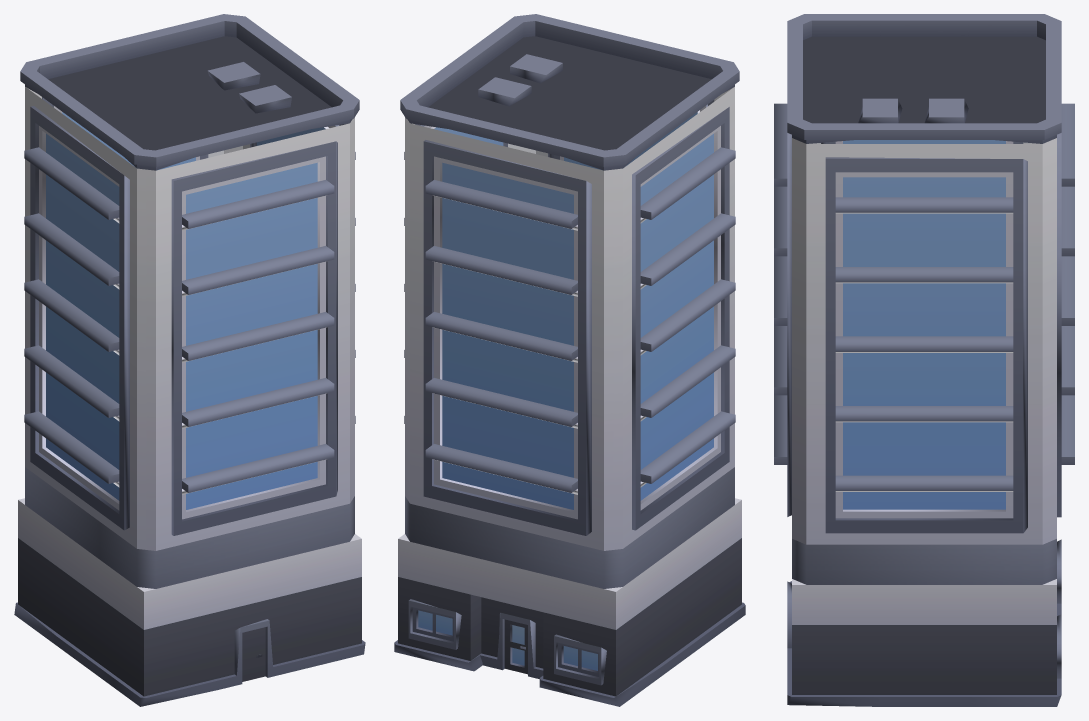
The model's file is 089_city-kit-commercial_building-skyscraper-a_card.glb.
3 renders of one model, left to right at view 1: azimuth 30°, elevation 25°; view 2: azimuth 150°, elevation 25°; view 3: azimuth 270°, elevation 25°, orthographic. The views are drawn at different scales.
Visible parts, largest first — view 1: building-skyscraper-a; view 2: building-skyscraper-a; view 3: building-skyscraper-a.
Part boxes in pixels (left/top/right/bottom): building-skyscraper-a: left=14, top=14, right=365, bottom=706; building-skyscraper-a: left=394, top=14, right=745, bottom=706; building-skyscraper-a: left=774, top=14, right=1074, bottom=706.
Size of the model in its own units: 1.36 by 2.88 by 1.36.
Materials: 1 (1 with a texture image).
